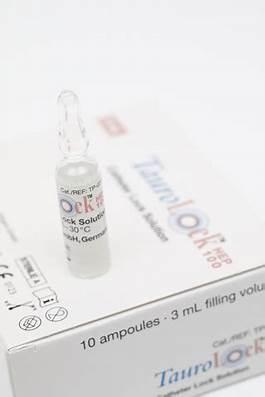Syringe: (47, 87, 116, 280)
